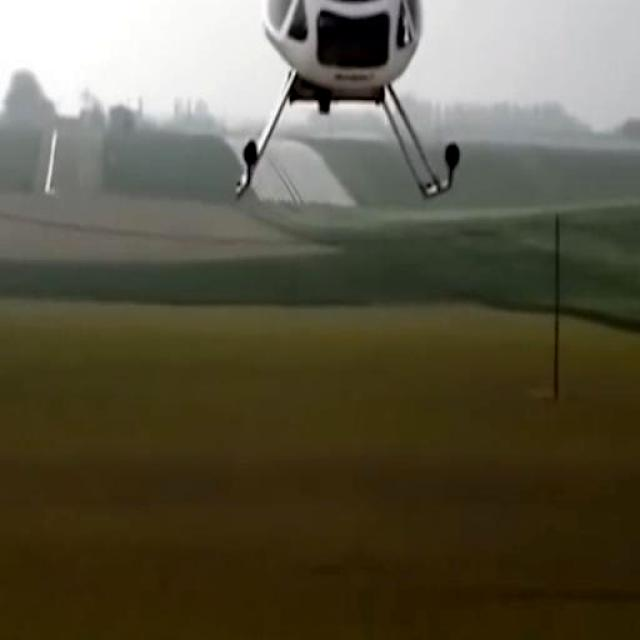drone: (178, 0, 626, 222)
